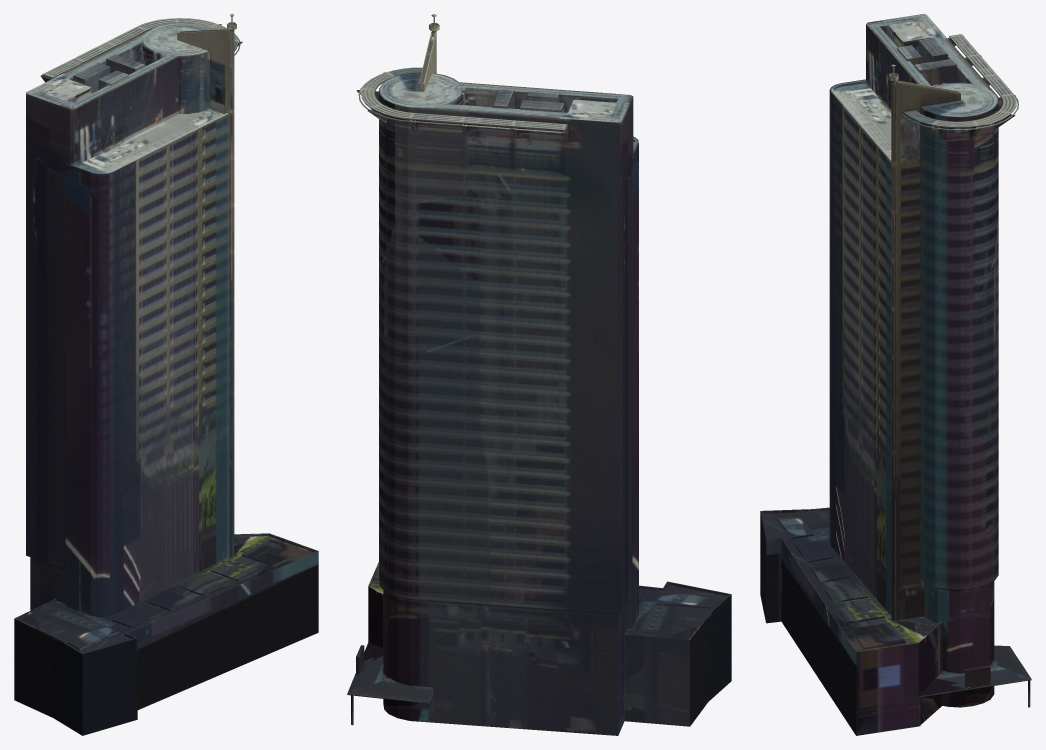
3 views of the same model, side by side, from view 1: azimuth 30°, elevation 25°; view 2: azimuth 150°, elevation 25°; view 3: azimuth 270°, elevation 25° (orthographic). The views are drawn at different scales.
Visible parts, largest first — view 1: 19_0.glb; view 2: 19_0.glb; view 3: 19_0.glb.
Boxes of the visible parts, <box> form: 19_0.glb: <box>14,14,318,735</box>; 19_0.glb: <box>347,14,731,735</box>; 19_0.glb: <box>760,14,1031,735</box>.
Bounding box in the file's own units: 74.21 × 148 × 57.22.
1 material, 1 textured.
